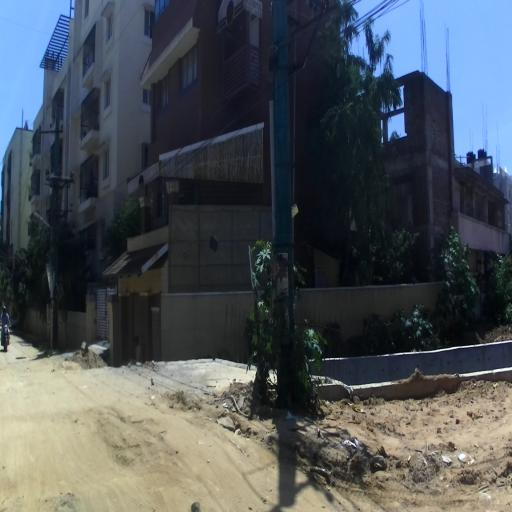street_light_0: (33, 212, 53, 234)
